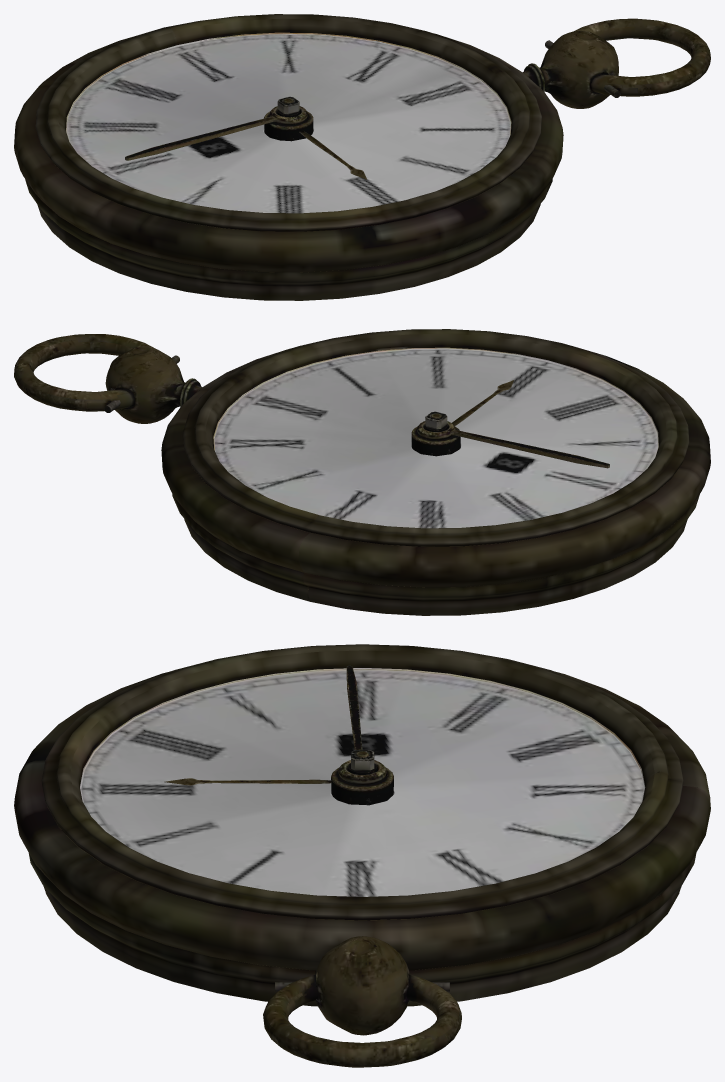
The model's file is obj_pocket_watch.glb.
3 views of the same model, one above another, from view 1: azimuth 30°, elevation 25°; view 2: azimuth 150°, elevation 25°; view 3: azimuth 270°, elevation 25° (orthographic). The views are drawn at different scales.
Visible parts, largest first — view 1: pCylinder1_body_0; view 2: pCylinder1_body_0; view 3: pCylinder1_body_0.
Boxes of the visible parts, x1,y1,x2,y2 form: pCylinder1_body_0: (14, 14, 710, 300); pCylinder1_body_0: (14, 329, 710, 615); pCylinder1_body_0: (14, 644, 710, 1067).
Size of the model in its own units: 0.06 by 0.0087 by 0.044.
Materials: 3 (3 with a texture image).
